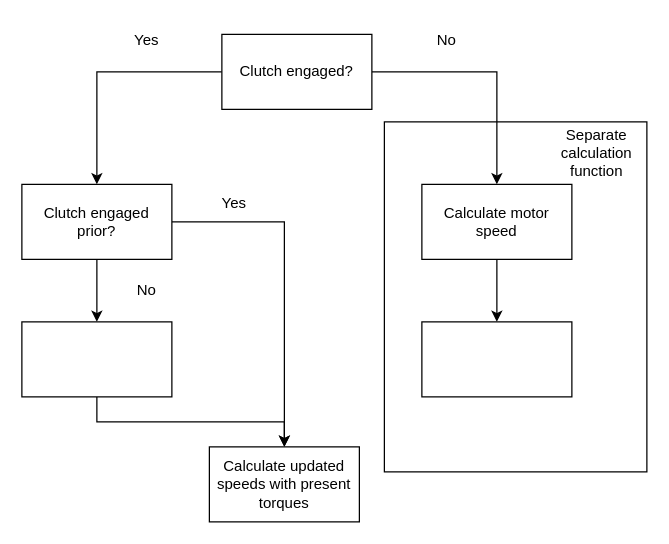
The diagram is 669 pixels wide and 544 high, and some of its shapes have lost their labels. The shapes that lost their labels are listed below. From the top down, each one's centre as x and y in pixels, then its label:
point (96, 359): Calculate combined speeds
point (496, 359): Calculate vehicle speed
